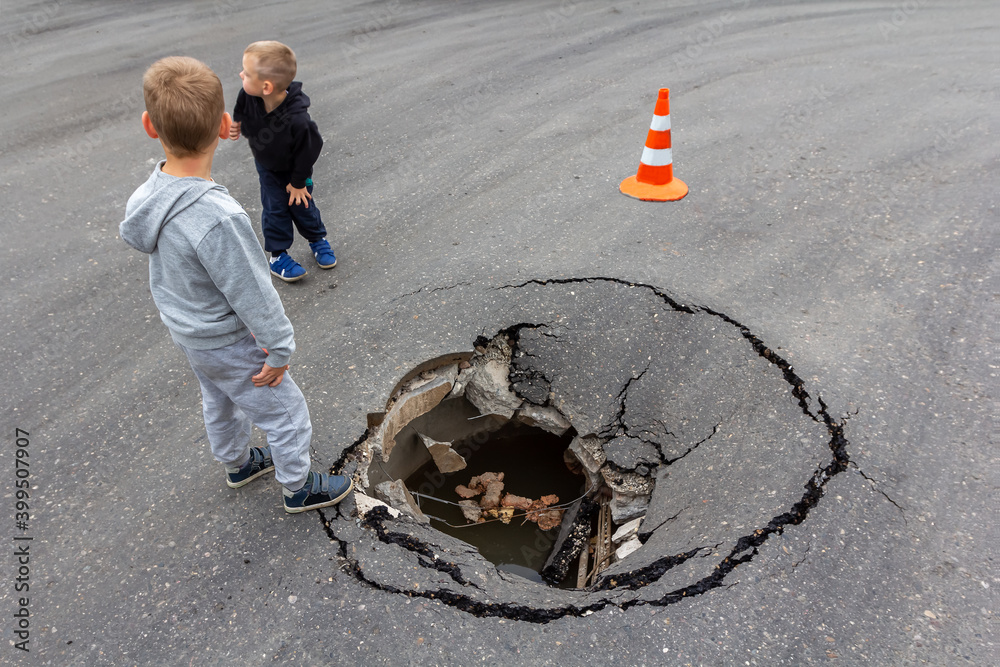Hole_in_the_road: (332, 279, 867, 634)
Person: (120, 53, 356, 527), (219, 36, 371, 283)
Road_cone: (622, 83, 695, 204)
